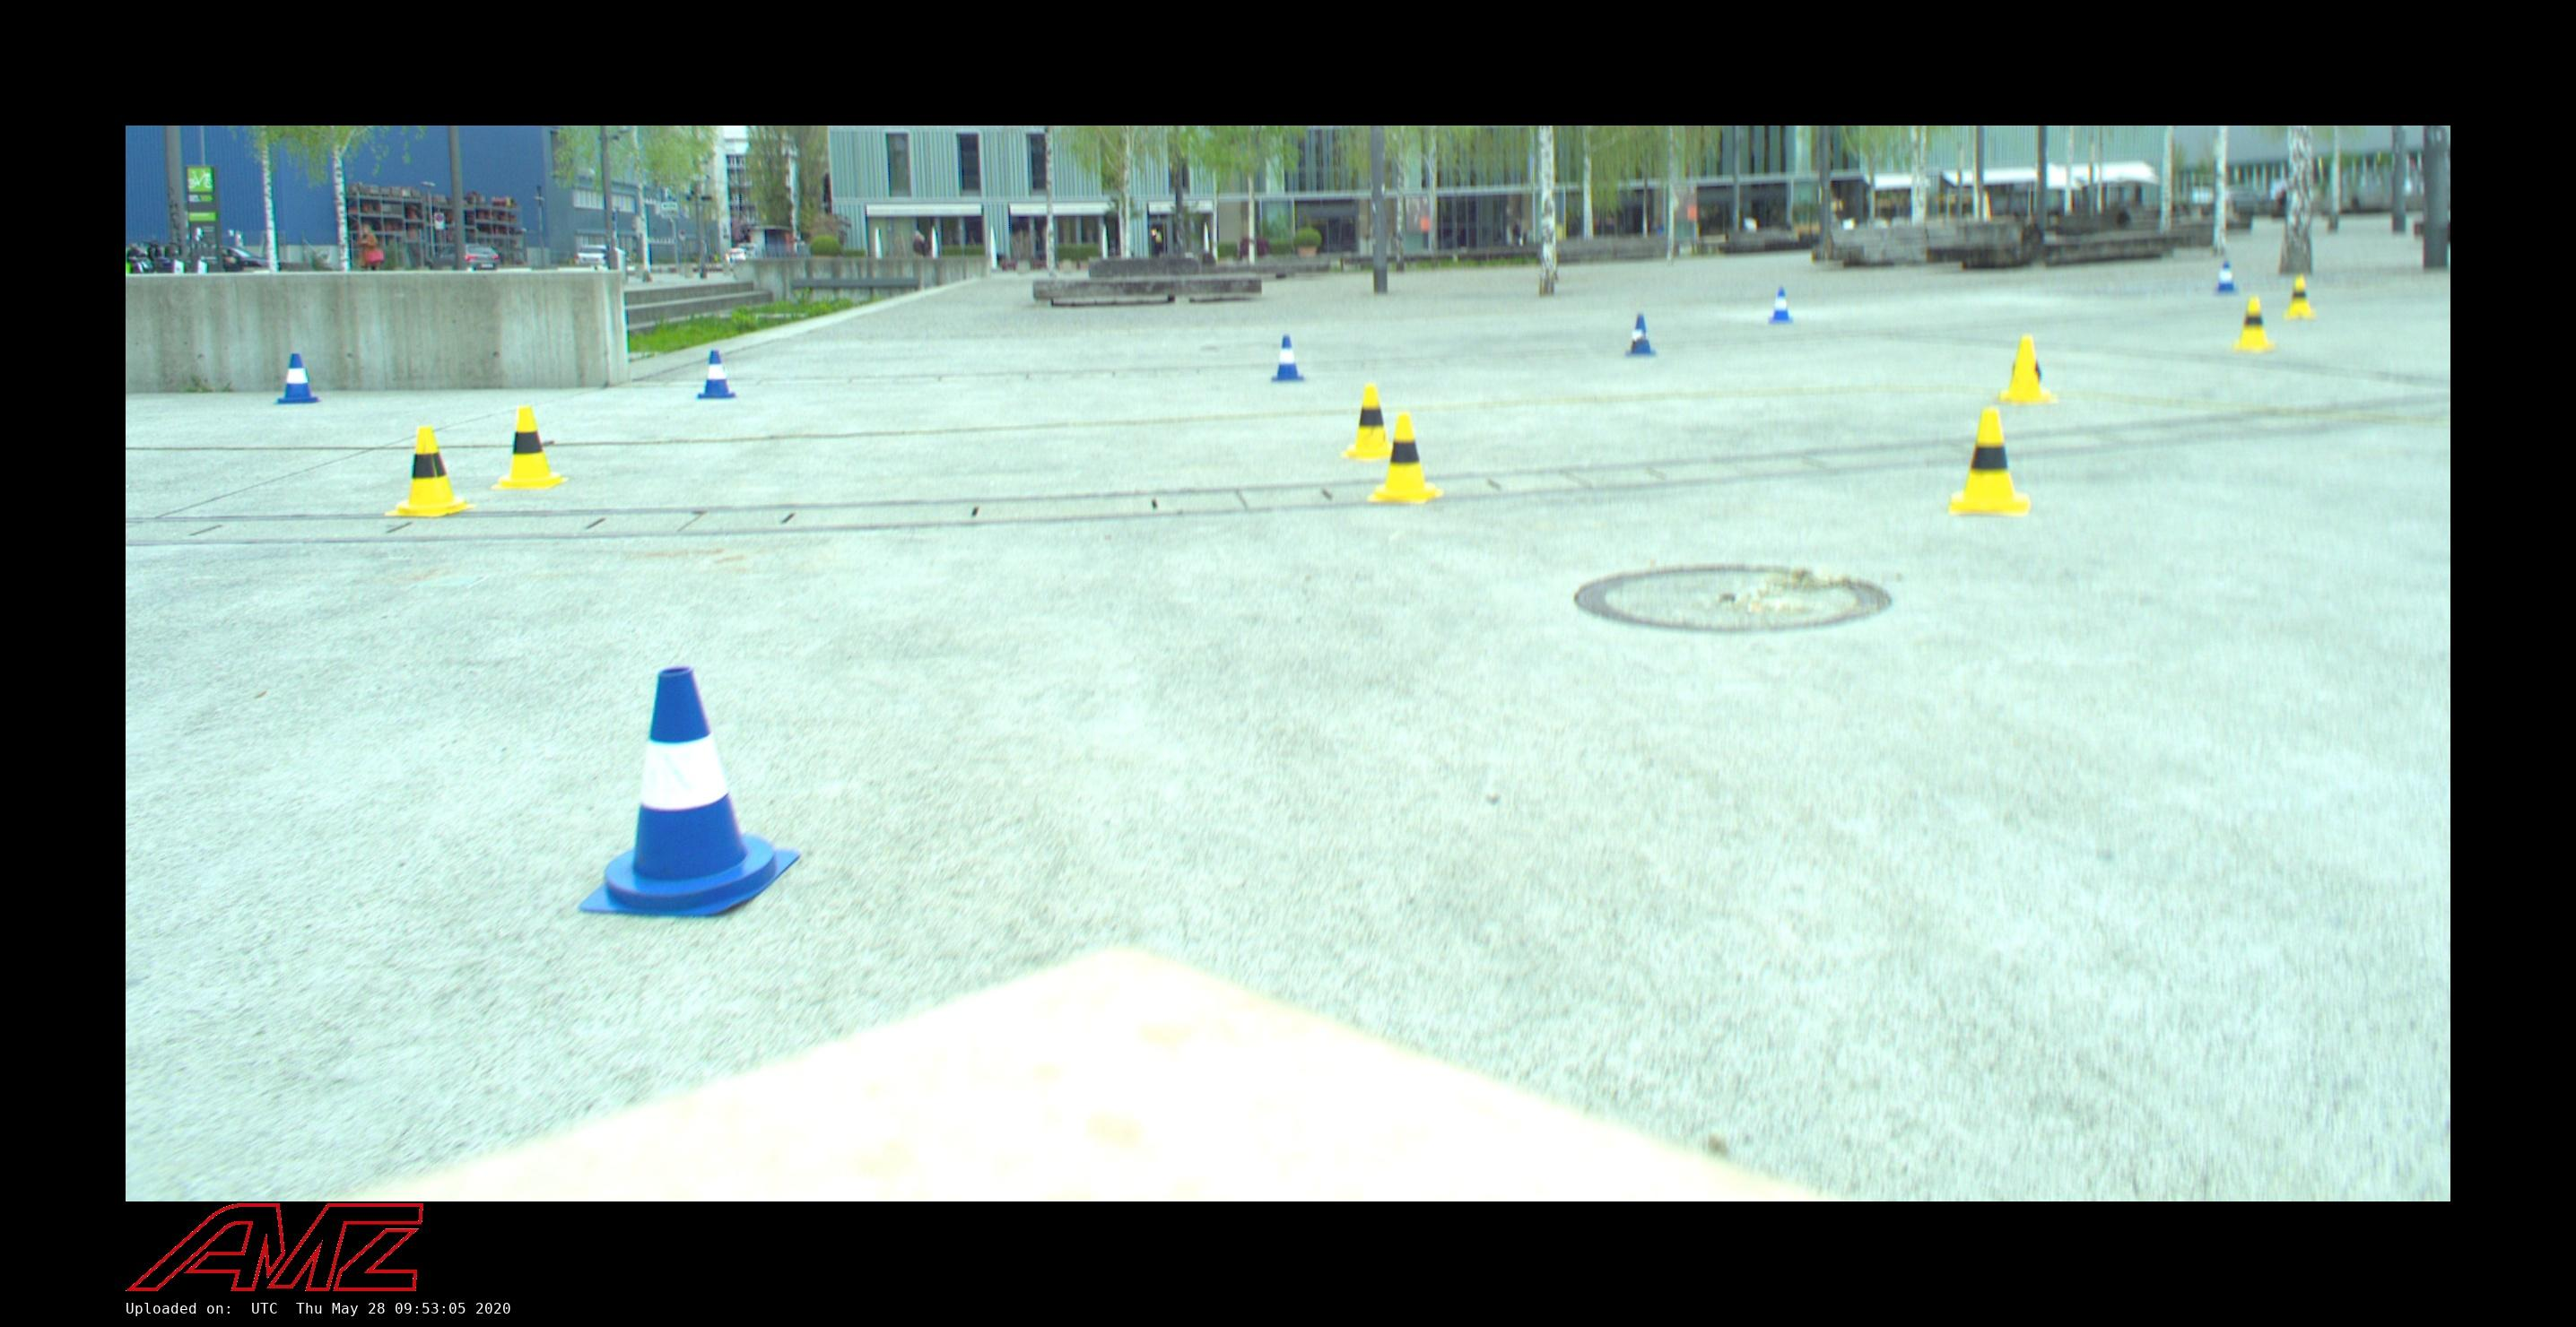blue_cone: (581, 665, 799, 912), (271, 352, 322, 405), (696, 350, 735, 399), (1268, 335, 1305, 383), (1623, 311, 1657, 357), (1765, 284, 1794, 325), (2215, 259, 2237, 295)
yellow_cone: (1945, 406, 2031, 518), (386, 427, 469, 518), (1368, 413, 1440, 504), (491, 405, 565, 487), (1342, 383, 1401, 460), (1997, 337, 2058, 405), (2234, 295, 2275, 352), (2283, 276, 2314, 320)
